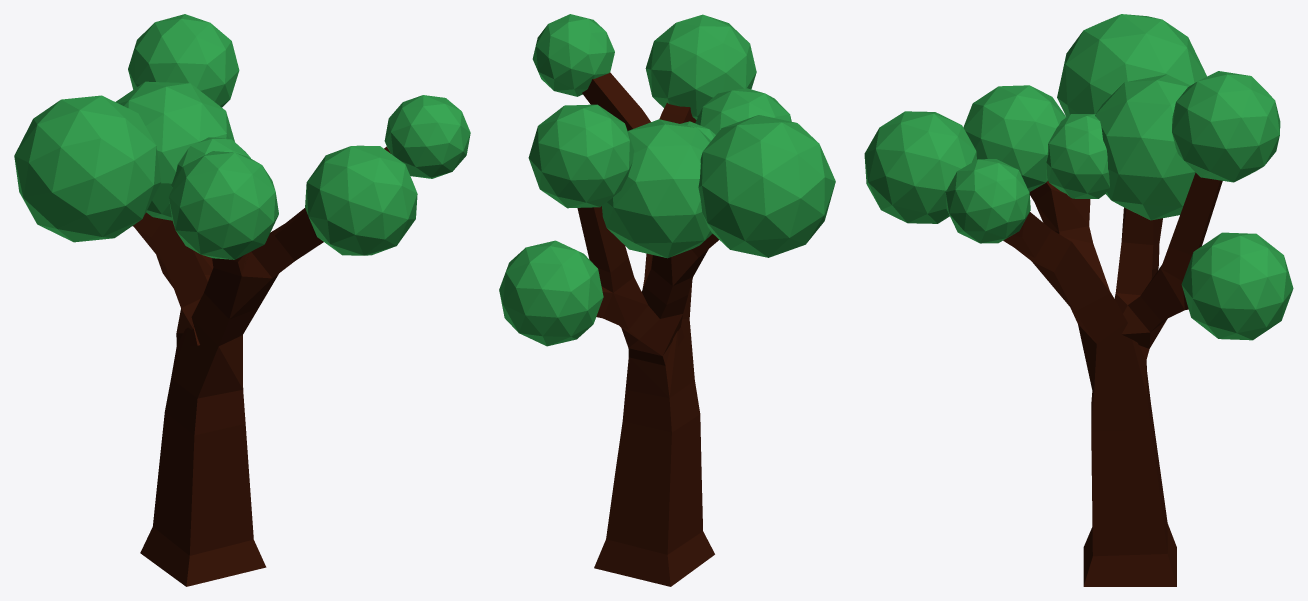
Rendered from Tree01GreenSmall-byKW.glb.
3 renders of one model, left to right at view 1: azimuth 30°, elevation 25°; view 2: azimuth 150°, elevation 25°; view 3: azimuth 270°, elevation 25°, orthographic. The views are drawn at different scales.
Parts seen in each view (by area): view 1: Stem.013, Leaf, Leaf.007, Leaf.004, Leaf.002, Leaf.001, Leaf.006, Leaf.005; view 2: Stem.013, Leaf, Leaf.001, Leaf.002, Leaf.003, Leaf.007, Leaf.006, Leaf.004; view 3: Stem.013, Leaf.001, Leaf.002, Leaf.003, Leaf.007, Leaf, Leaf.004, Leaf.006, Leaf.005.
Part boxes in pixels (x1,y1,x2,y2): Stem.013: (133, 146, 390, 586); Leaf: (14, 95, 161, 242); Leaf.007: (305, 145, 417, 255); Leaf.004: (169, 151, 278, 259); Leaf.002: (128, 14, 239, 107); Leaf.001: (116, 81, 234, 220); Leaf.006: (384, 95, 470, 178); Leaf.005: (171, 137, 250, 187); Stem.013: (577, 72, 718, 586); Leaf: (698, 115, 835, 257); Leaf.001: (602, 119, 712, 258); Leaf.002: (528, 104, 634, 208); Leaf.003: (499, 240, 603, 346); Leaf.007: (645, 14, 756, 119); Leaf.006: (532, 14, 614, 96); Leaf.004: (695, 88, 791, 134); Stem.013: (1003, 172, 1222, 586); Leaf.001: (1095, 74, 1195, 220); Leaf.002: (1172, 71, 1280, 182); Leaf.003: (1181, 232, 1293, 340); Leaf.007: (864, 111, 976, 223); Leaf: (1057, 14, 1206, 116); Leaf.004: (963, 85, 1066, 191); Leaf.006: (945, 159, 1030, 243); Leaf.005: (1046, 114, 1109, 198).
Bounding box in the file's own units: 14.17 × 18.38 × 14.13.
